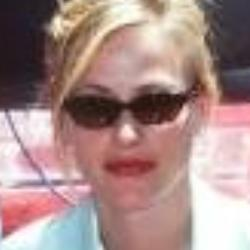face: (32, 2, 229, 210)
